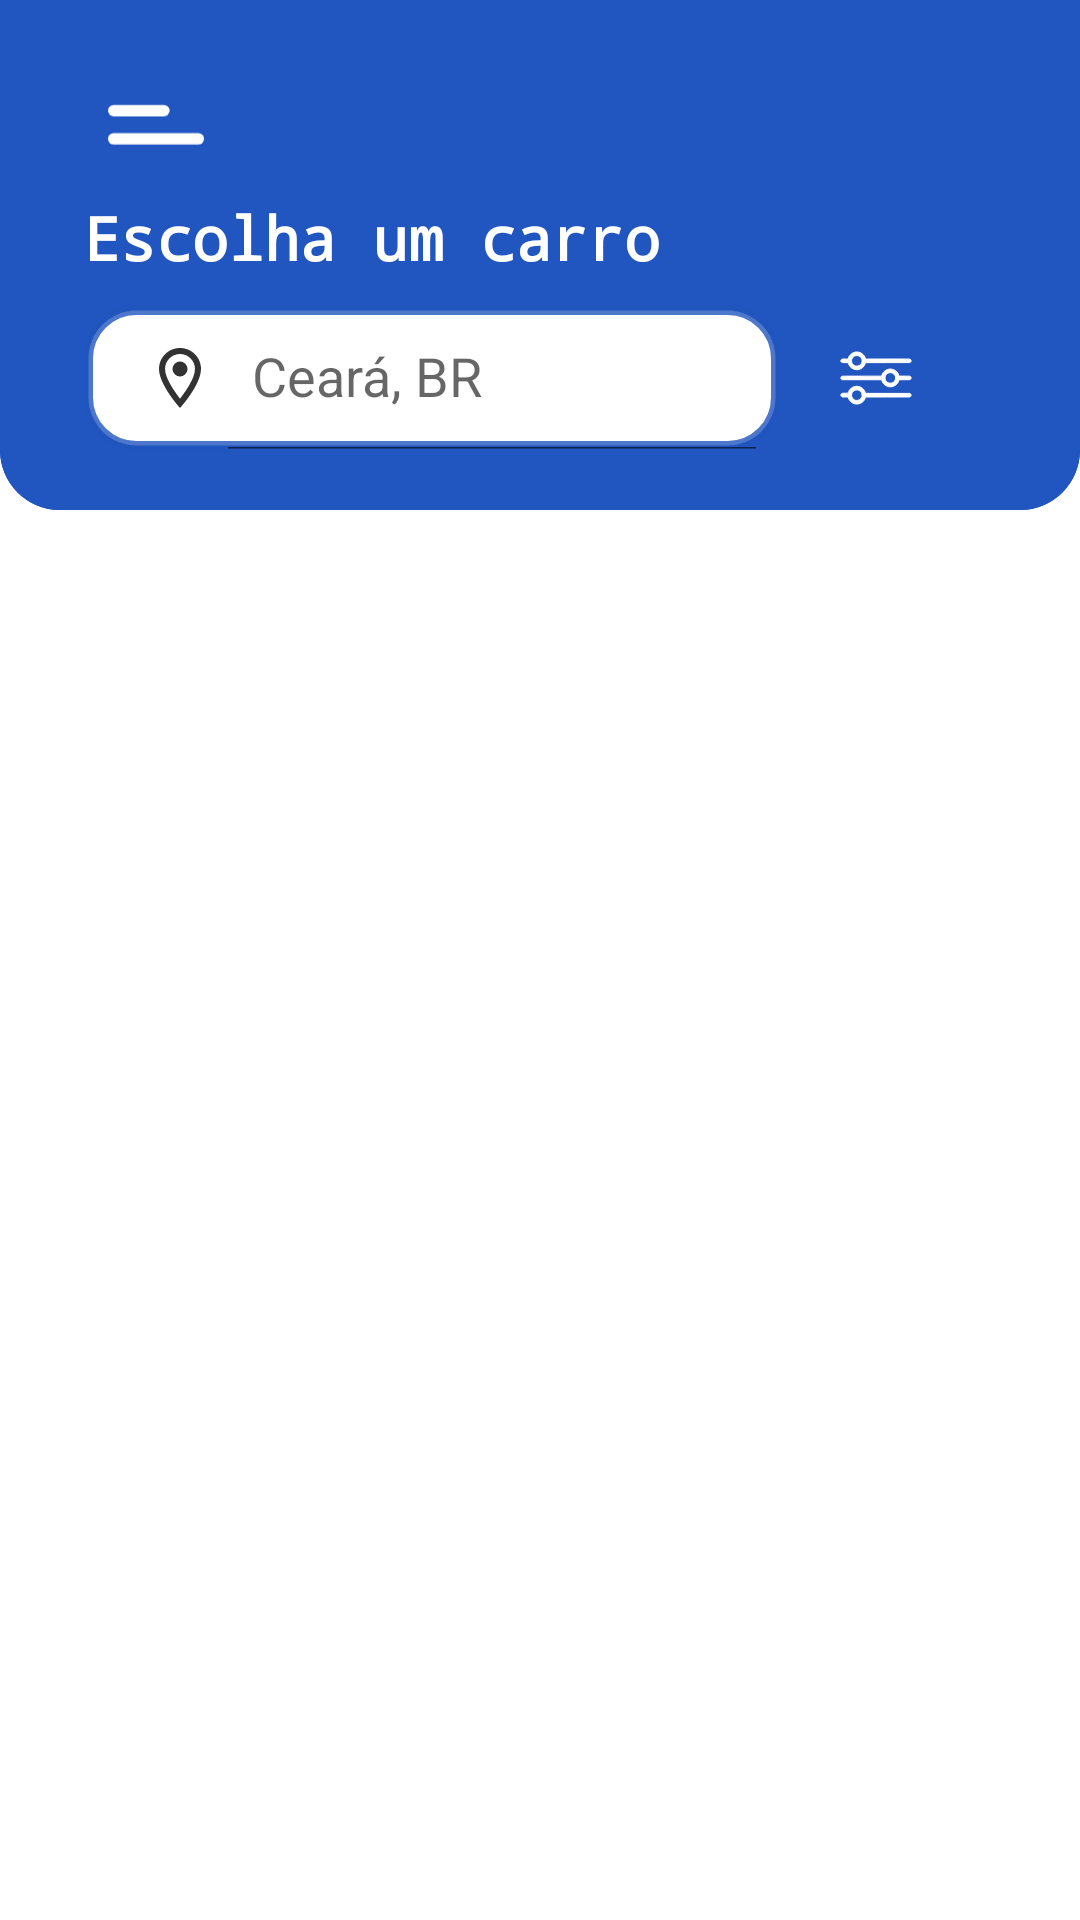

Where icons sit on this 1080x1920 app screen, as (x1, y1, x2, y2):
filter: (840, 351, 912, 405)
side bar: (108, 104, 204, 145)
